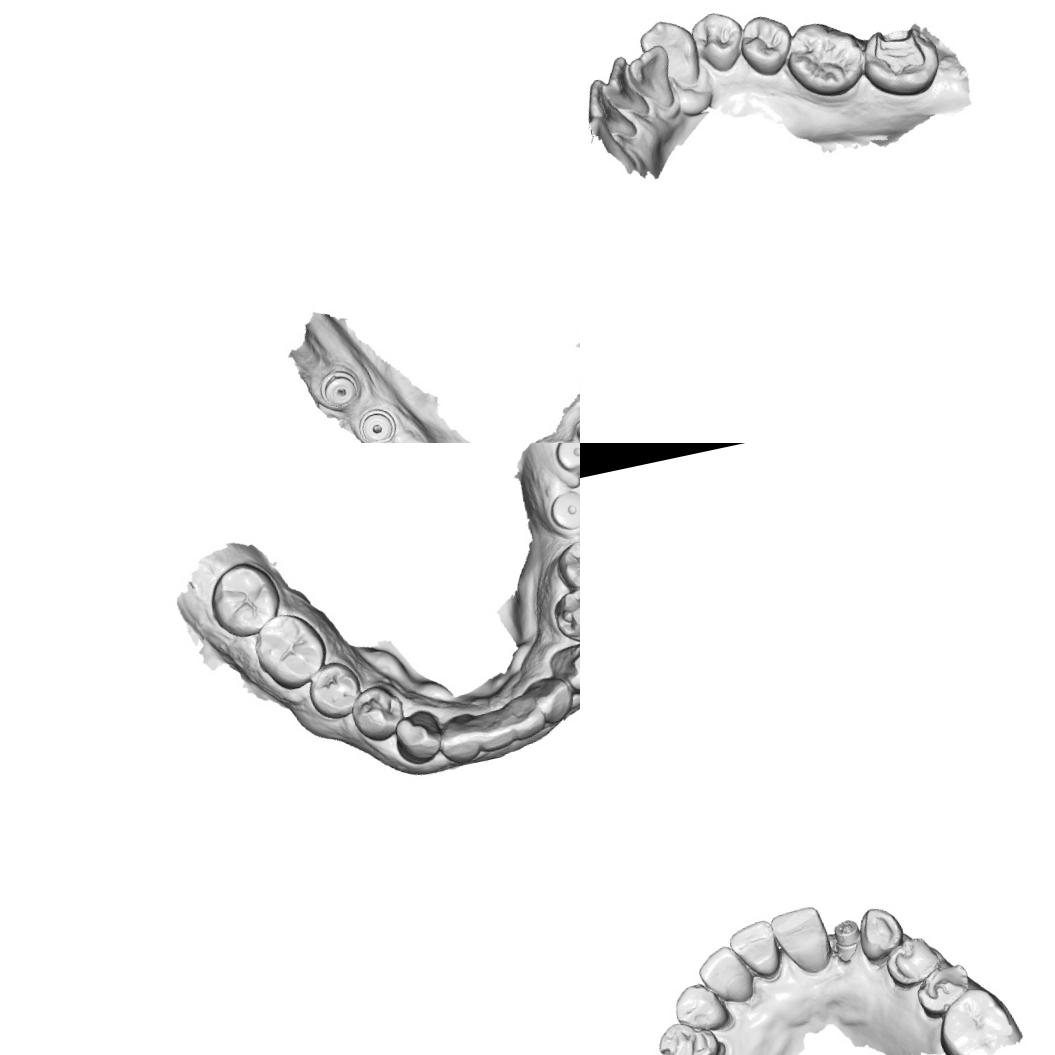canine: (633, 12, 707, 95), (669, 973, 733, 1039), (388, 706, 447, 769), (852, 902, 910, 964), (542, 633, 580, 701)
implant: (315, 361, 368, 413), (354, 397, 402, 443), (828, 916, 867, 964), (546, 487, 580, 536), (550, 443, 580, 479)
incisor: (768, 902, 836, 982), (692, 938, 758, 1010), (580, 71, 640, 150), (623, 42, 683, 116), (598, 51, 654, 126), (724, 917, 784, 986), (430, 706, 487, 768), (524, 670, 580, 730), (498, 682, 550, 746), (471, 701, 520, 756)
inlay: (866, 20, 935, 84)
molar: (777, 11, 873, 107), (248, 606, 338, 700), (201, 554, 290, 646), (929, 980, 1022, 1055)
premolar: (302, 654, 368, 729), (733, 7, 799, 81), (686, 6, 748, 79), (346, 680, 409, 748), (911, 959, 976, 1022), (880, 932, 946, 992), (652, 1014, 724, 1055), (549, 532, 580, 602), (548, 583, 580, 650)
